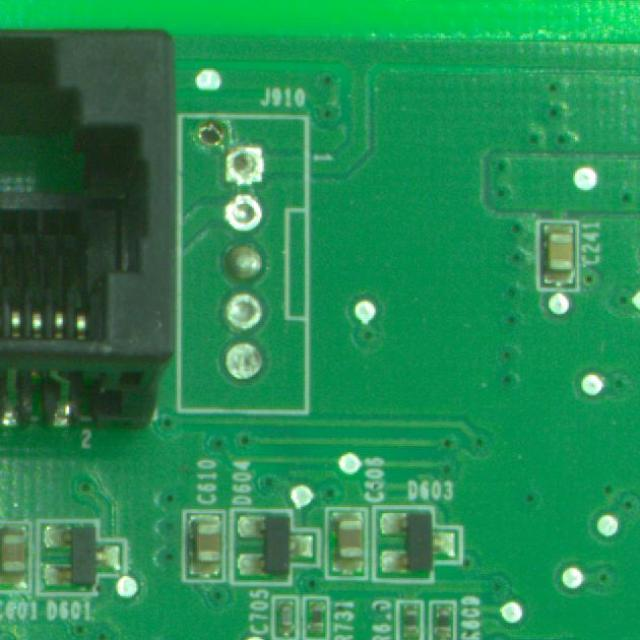oppostie_direction: (225, 146, 262, 185), (225, 292, 262, 331), (225, 194, 262, 231), (225, 343, 261, 379), (225, 245, 262, 280), (198, 121, 224, 146)
